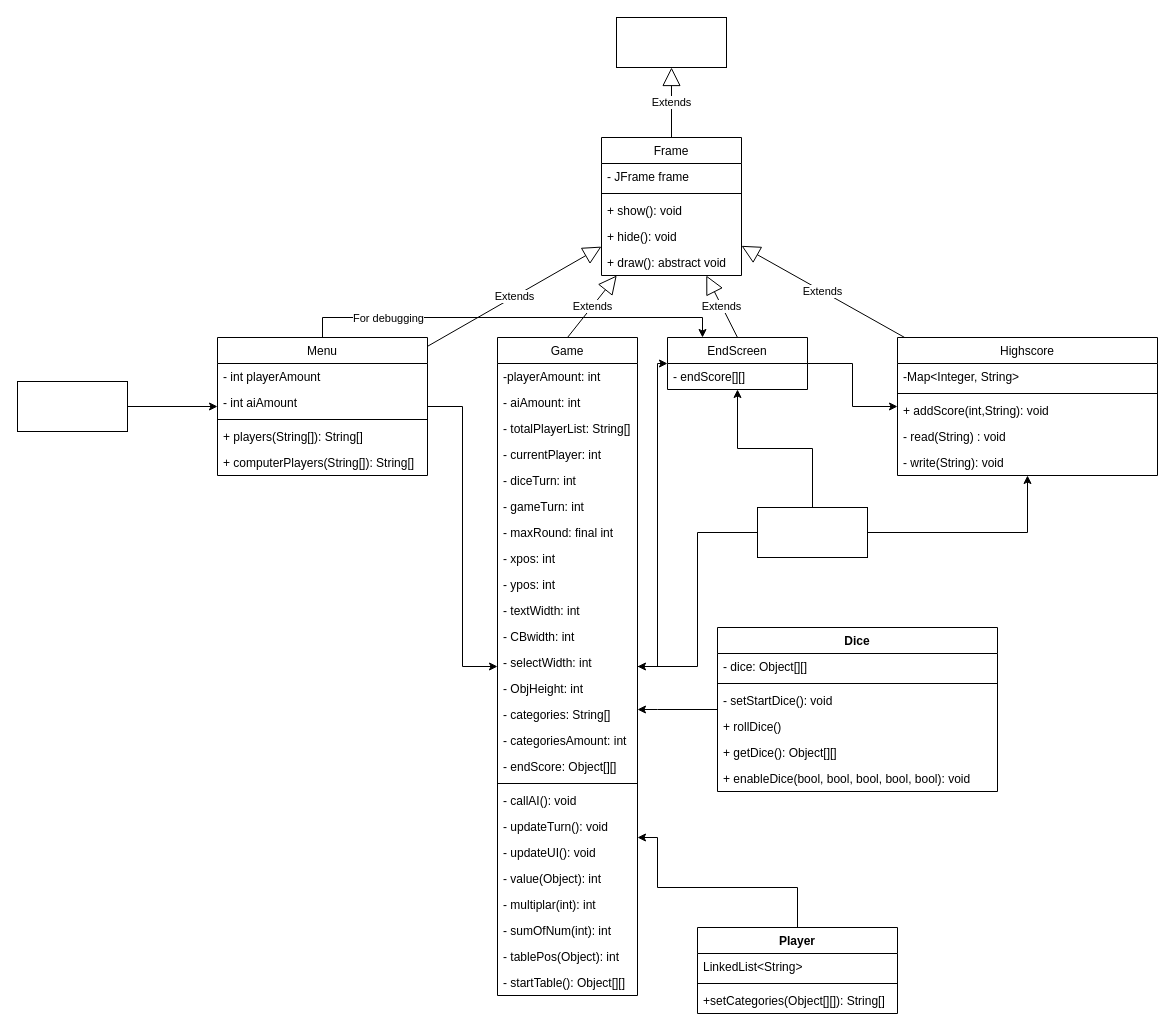
Image size: 1175x1034. Some labels were removed from this diagram. The shapes that lost their labels are listed below. From the top down, each one's centre as x and y in pixels, then its label:
(671,42): JFrame
(72,406): MAIN
(812,532): Swing objects
